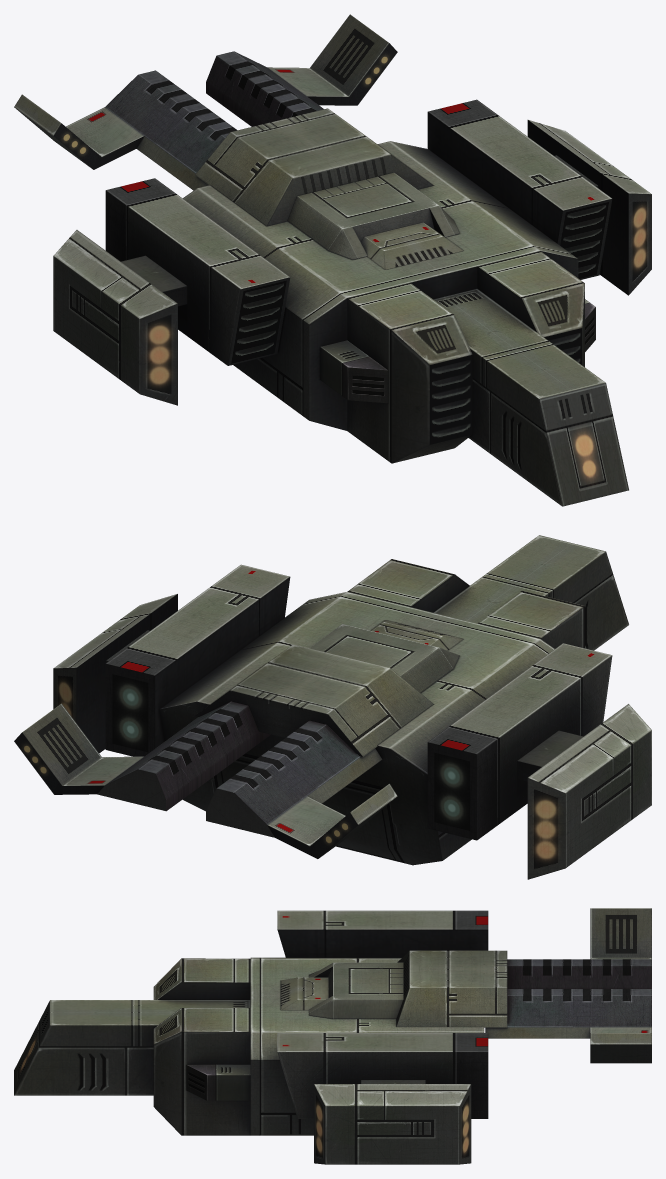
The model's file is SIFI_space ship.FBX.
3 views of the same model, one above another, from view 1: azimuth 30°, elevation 25°; view 2: azimuth 150°, elevation 25°; view 3: azimuth 270°, elevation 25° (orthographic). The views are drawn at different scales.
Visible parts, largest first — view 1: sifi_plane; view 2: sifi_plane; view 3: sifi_plane.
Boxes of the visible parts, box(x1,y1,x2,y2) form: sifi_plane: box(14, 14, 651, 506); sifi_plane: box(14, 535, 651, 879); sifi_plane: box(14, 908, 651, 1164).
Size of the model in its own units: 1122 by 1554 by 349.
